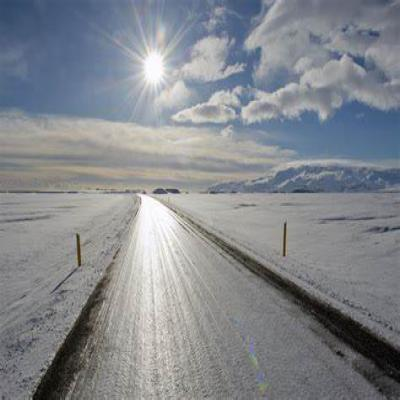iced-road: (37, 195, 400, 400)
